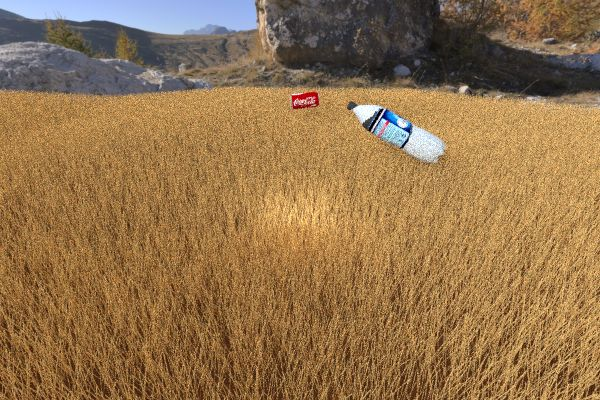bottle: (349, 101, 449, 163)
can: (322, 117, 385, 165), (147, 115, 214, 153)
